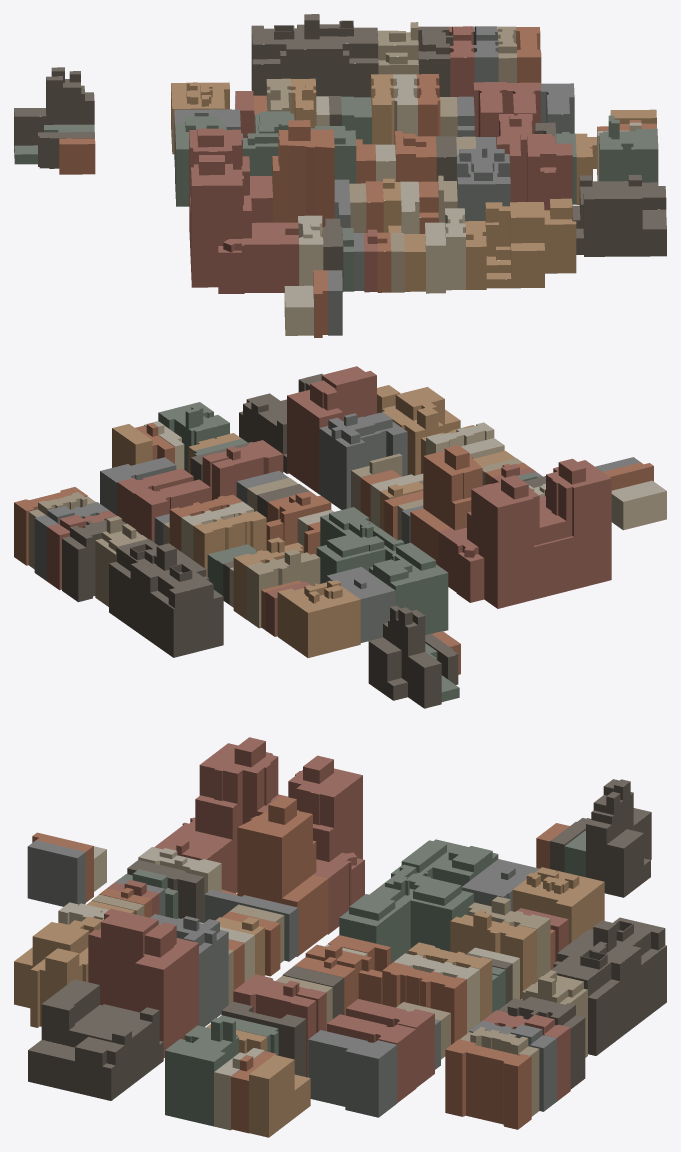
The model's file is tile-4_-1.glb.
The picture shows the model from 3 angles, top to bottom: view 1: azimuth 30°, elevation 25°; view 2: azimuth 150°, elevation 25°; view 3: azimuth 270°, elevation 25°; orthographic projection. The views are drawn at different scales.
Visible parts, largest first — view 1: wall, roof; view 2: wall, roof; view 3: wall, roof.
Boxes of the visible parts, x1=… form: wall: x1=14, y1=20, x2=666, y2=337; roof: x1=14, y1=14, x2=666, y2=307; wall: x1=14, y1=375, x2=666, y2=708; roof: x1=14, y1=366, x2=666, y2=692; wall: x1=14, y1=741, x2=666, y2=1137; roof: x1=14, y1=737, x2=666, y2=1089.
Bounding box in the file's own units: 217 × 50.12 × 214.
